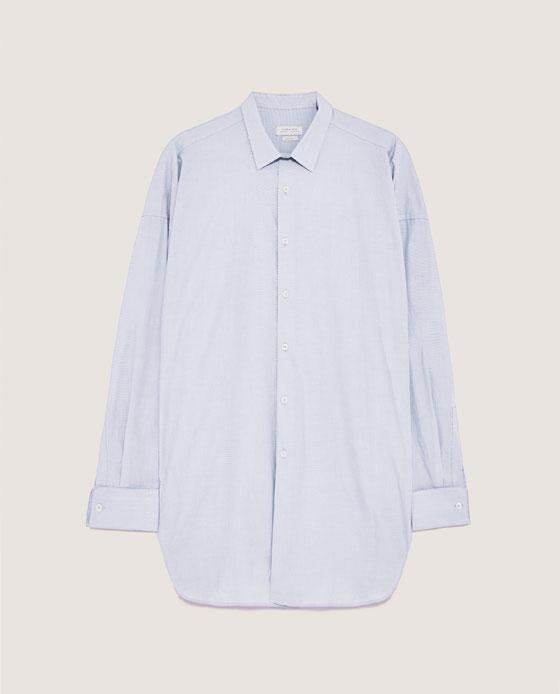teeshirt: (94, 86, 482, 625)
